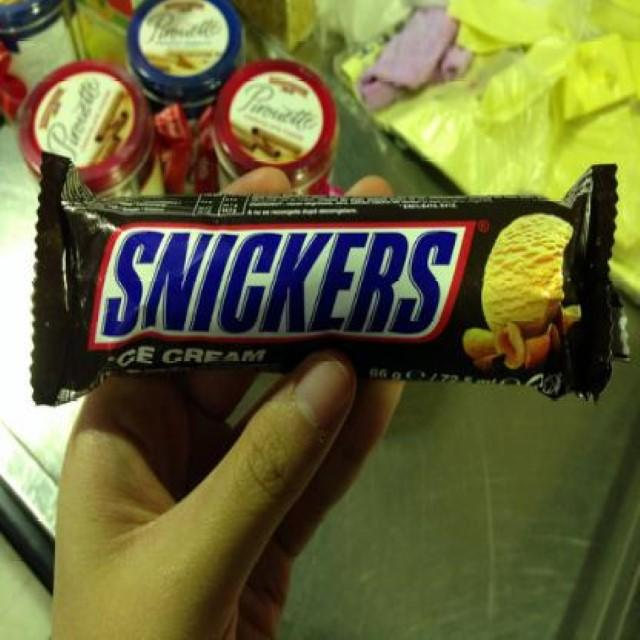snickers_chocolate: (55, 187, 608, 370)
